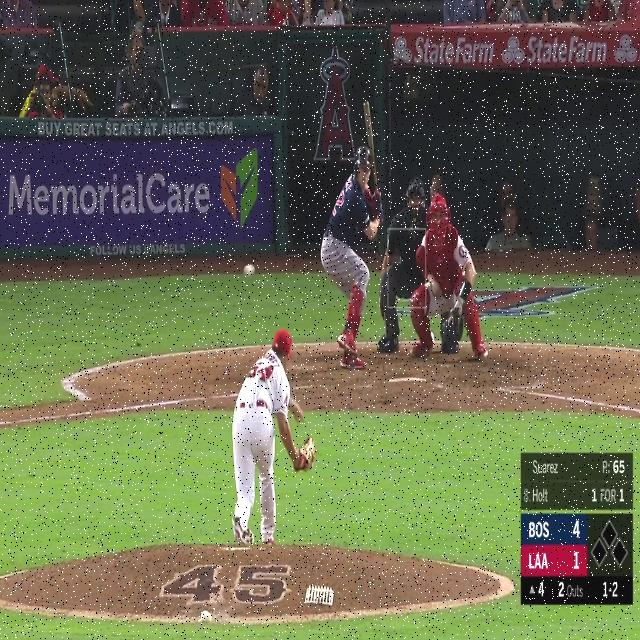baseball: (243, 264, 255, 277)
